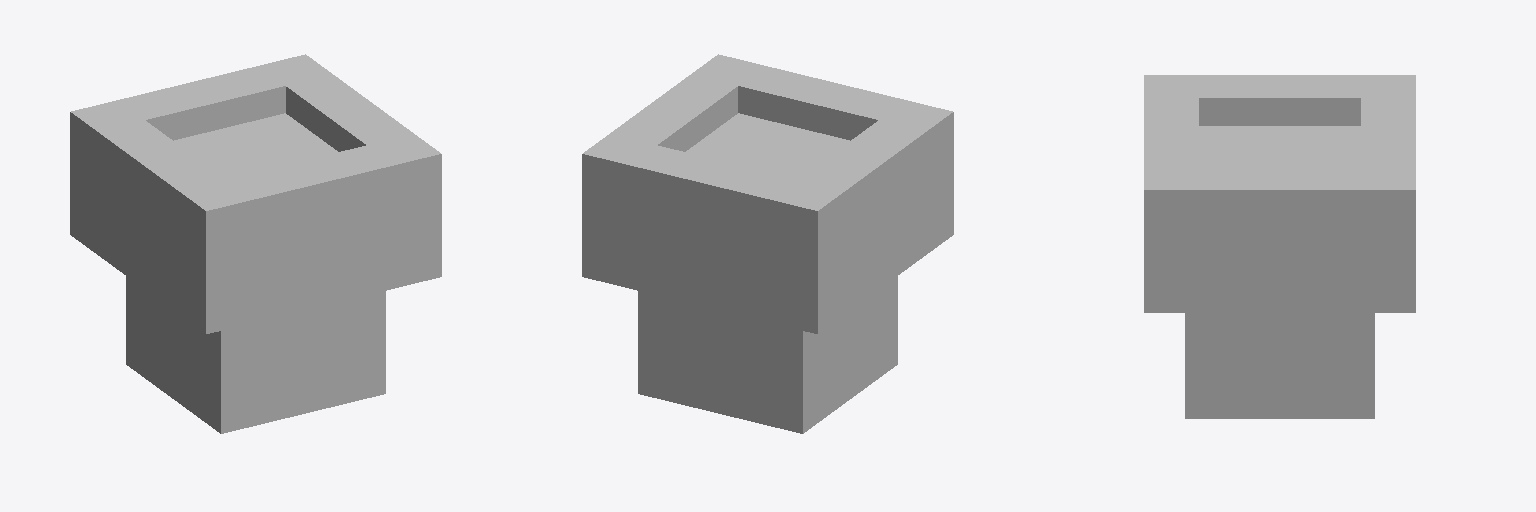
Rendered from trumpet.obj.
3 renders of one model, left to right at view 1: azimuth 30°, elevation 25°; view 2: azimuth 150°, elevation 25°; view 3: azimuth 270°, elevation 25°, orthographic.
Parts seen in each view (by area): view 1: Cube; view 2: Cube; view 3: Cube.
Boxes of the visible parts, x1=… form: Cube: x1=70, y1=54, x2=441, y2=433; Cube: x1=582, y1=54, x2=953, y2=433; Cube: x1=1144, y1=75, x2=1415, y2=418.
Size of the model in its own units: 1 by 1 by 1.